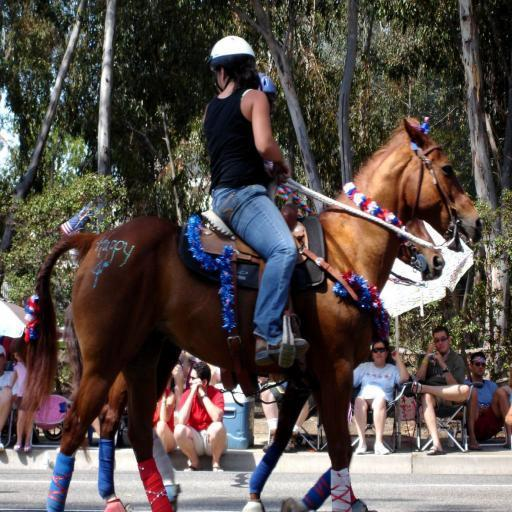horse: (19, 110, 484, 512), (60, 217, 447, 512)
